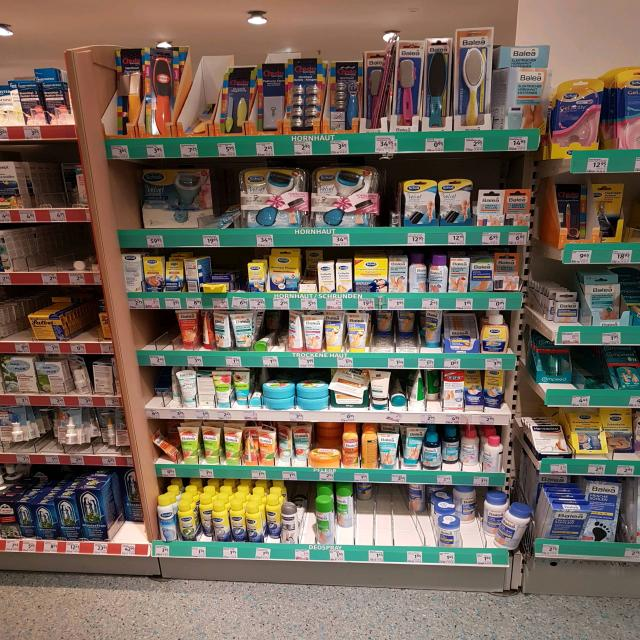void: (379, 483, 408, 562), (136, 311, 171, 367), (32, 225, 61, 284), (2, 225, 30, 285), (33, 159, 56, 223)
